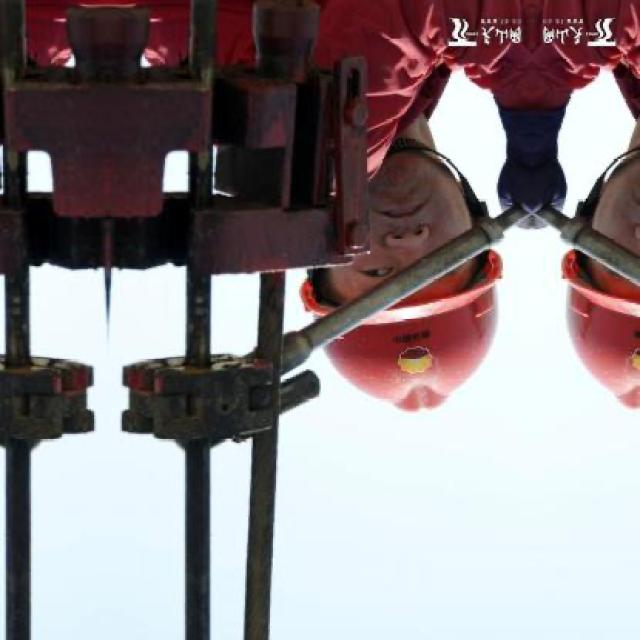con casco: (284, 242, 501, 412)
